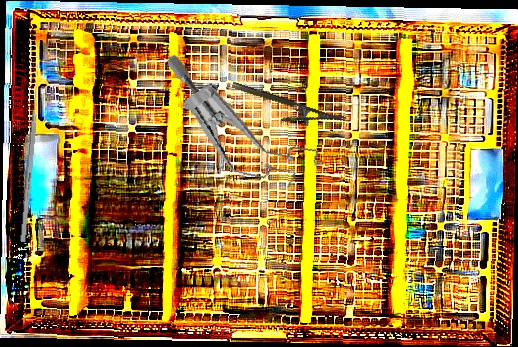Needle Holder: (226, 80, 347, 140)
Pusher: (19, 80, 41, 242)
Speculum: (145, 53, 340, 196)
